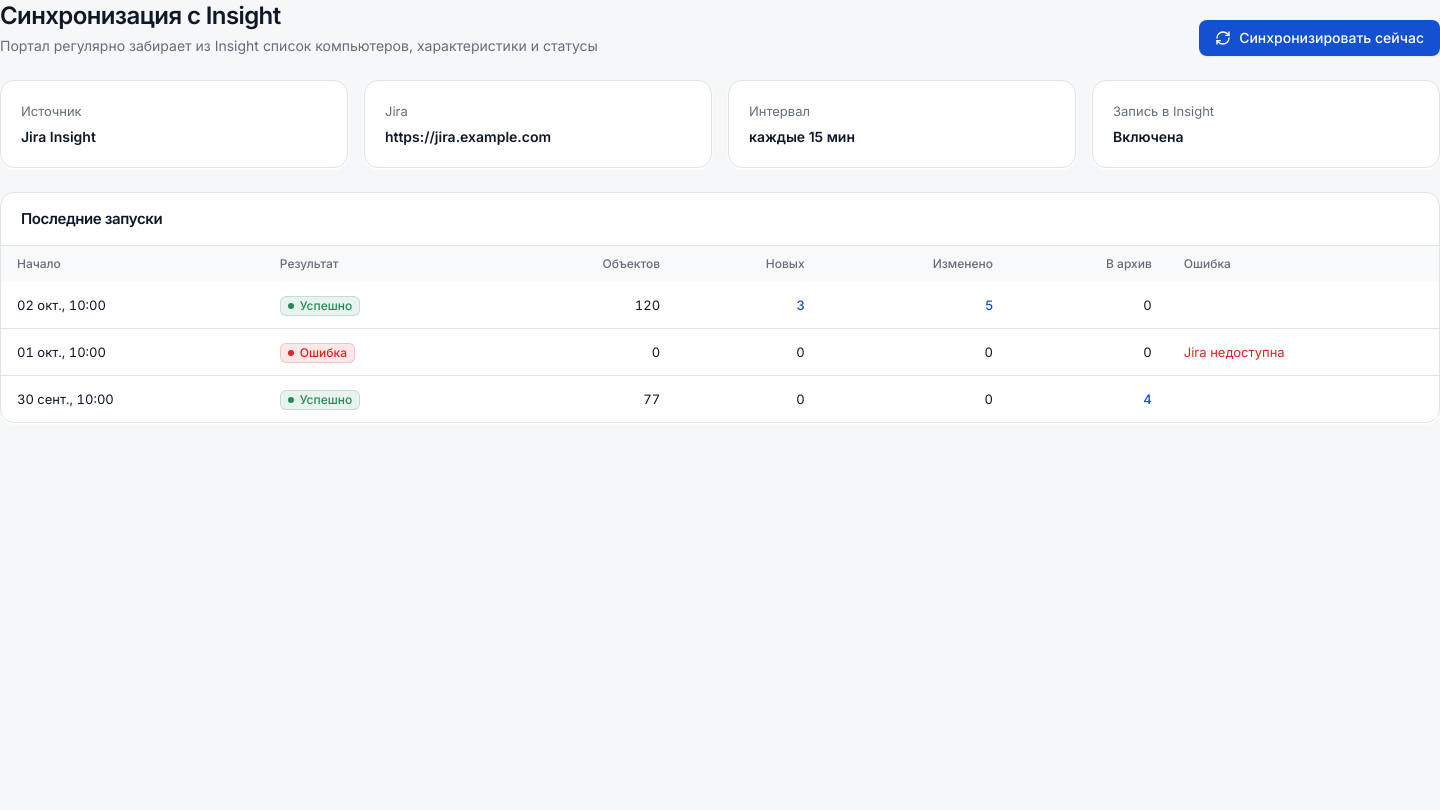
Scenario: SyncPage: детали запуска › клик по «Новых» запрашивает запуск и показывает новые ПК
Click the button "3": [801, 305] box [796, 295, 805, 315]
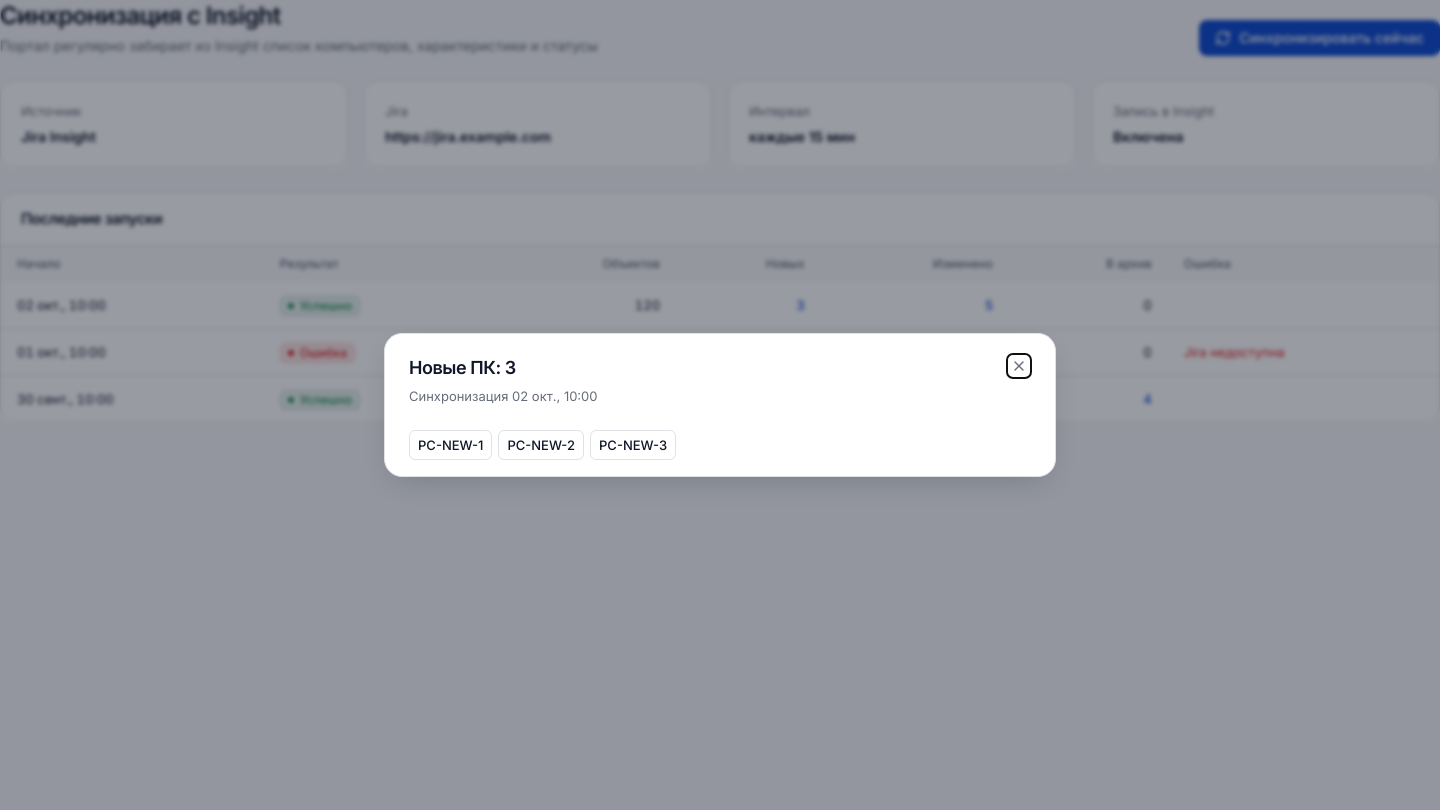
Expected: the heading "Новые ПК: 3" is shown, [409, 357, 516, 378]
Expected: the text "PC-NEW-1" is shown, [409, 430, 492, 460]
Expected: the text "PC-NEW-2" is shown, [498, 430, 584, 460]
